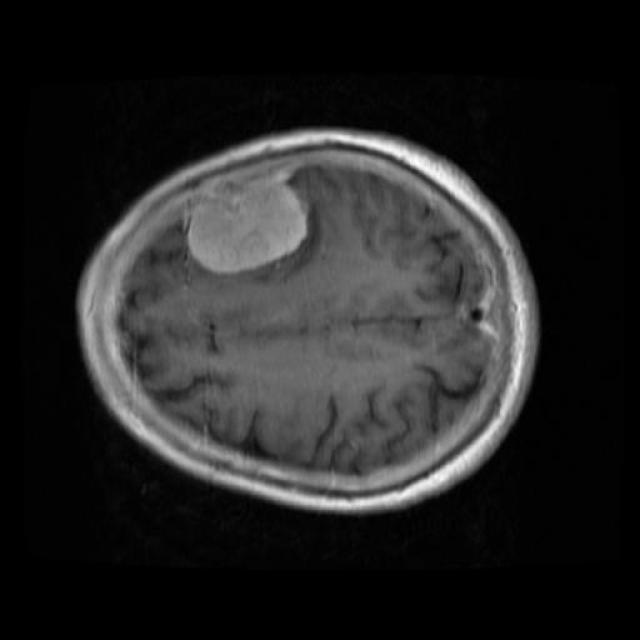Meningioma: (187, 172, 307, 274)
